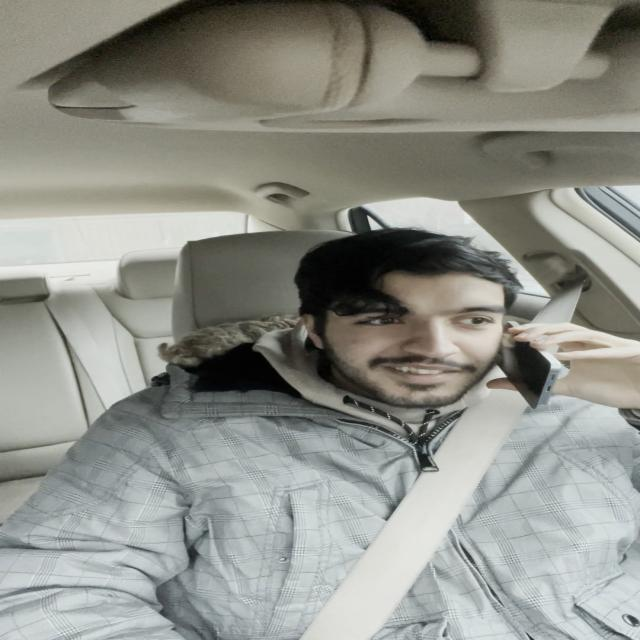seatbelt: (210, 420, 572, 640), (501, 325, 569, 408)
